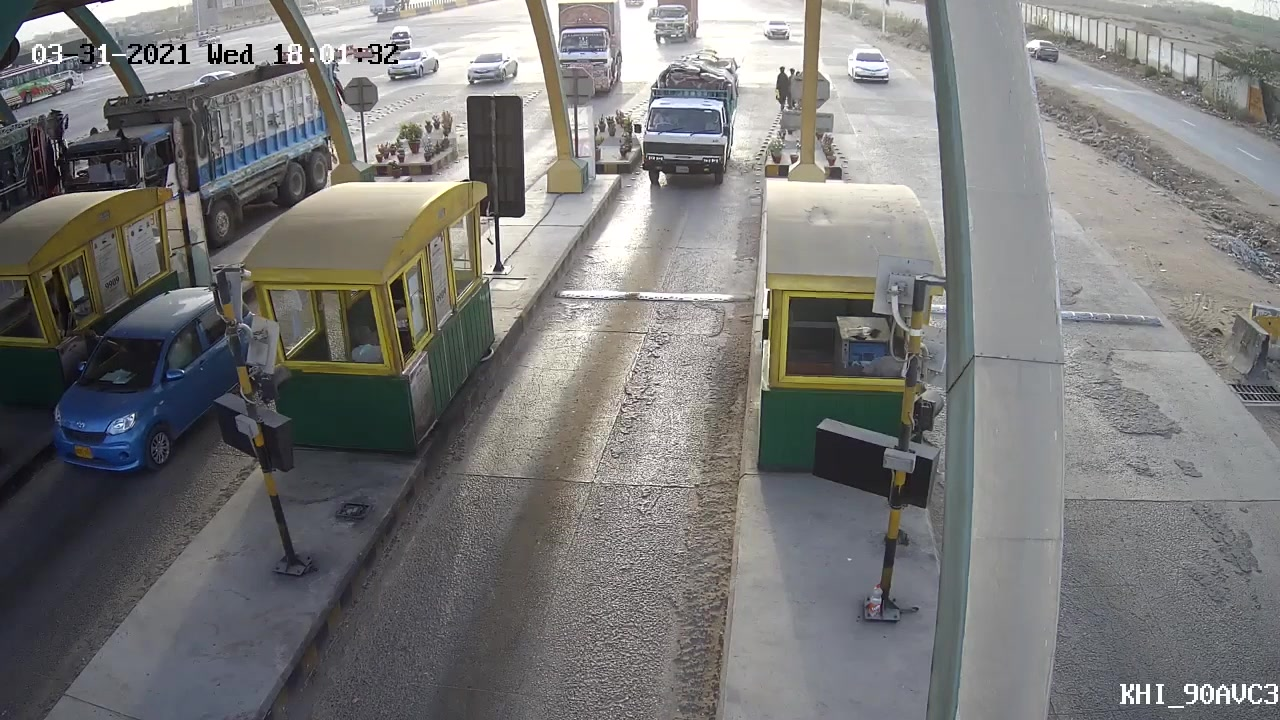F3: (628, 46, 745, 195)
